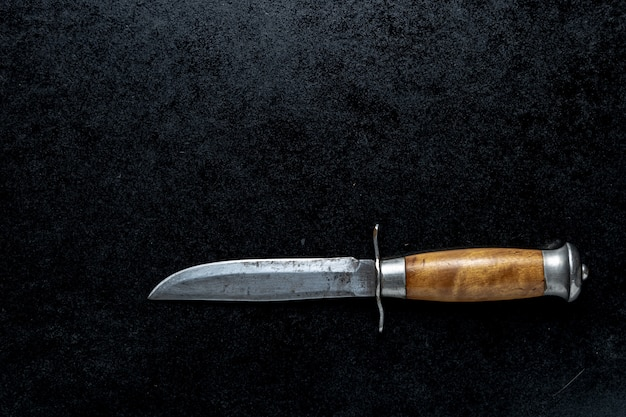knife: (146, 223, 592, 337)
